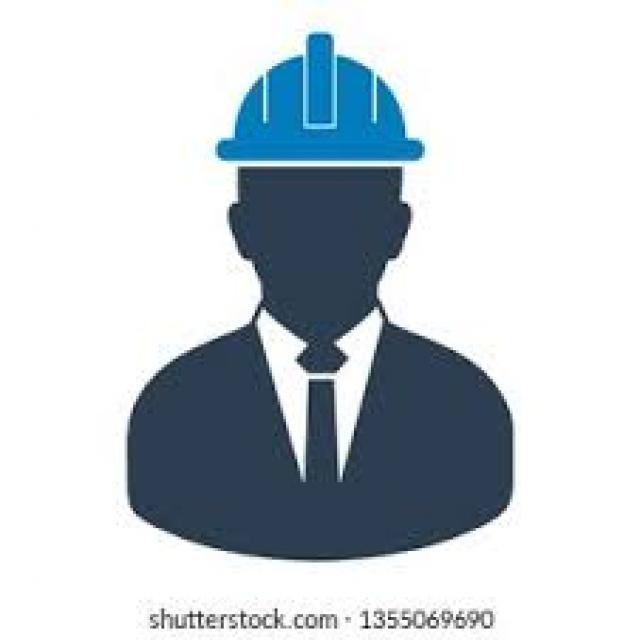safety_helmet: (215, 49, 425, 178)
